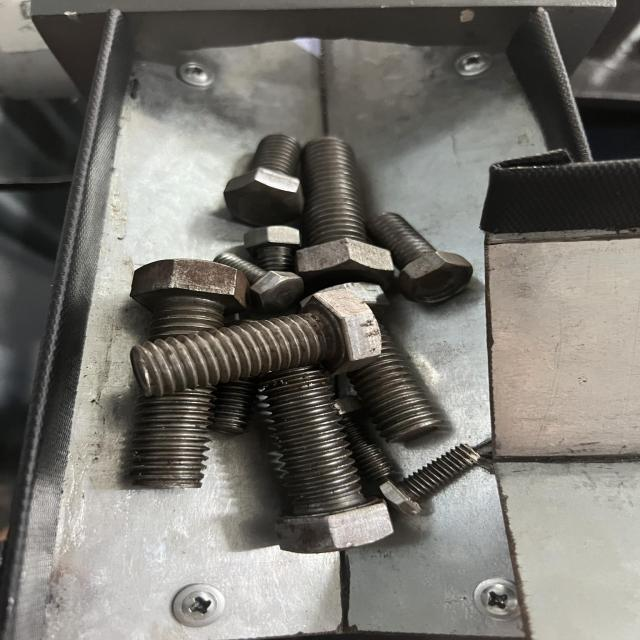bolt: (128, 289, 380, 397), (272, 370, 393, 557), (380, 442, 482, 516)
